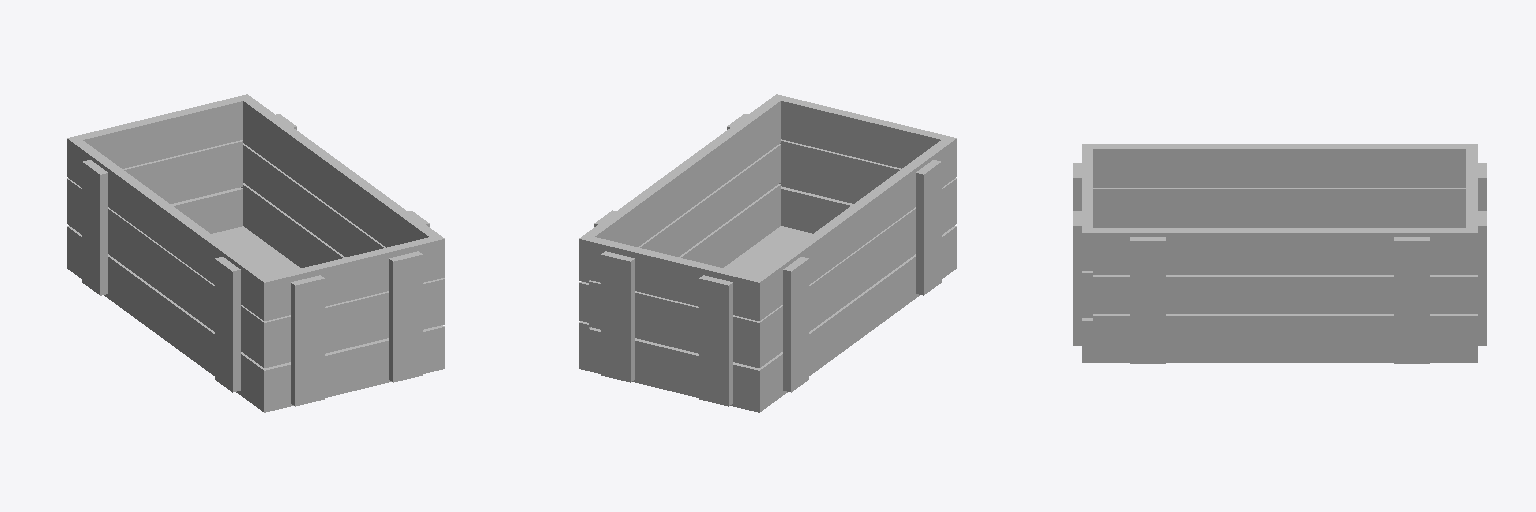
The model's file is crate2.obj.
3 renders of one model, left to right at view 1: azimuth 30°, elevation 25°; view 2: azimuth 150°, elevation 25°; view 3: azimuth 270°, elevation 25°, orthographic.
Visible parts, largest first — view 1: crate2; view 2: crate2; view 3: crate2.
Part boxes in pixels (left/top/right/bottom): crate2: left=67, top=94, right=444, bottom=412; crate2: left=579, top=94, right=956, bottom=412; crate2: left=1073, top=144, right=1486, bottom=363.
Size of the model in its own units: 0.2218 by 0.1451 by 0.4028.